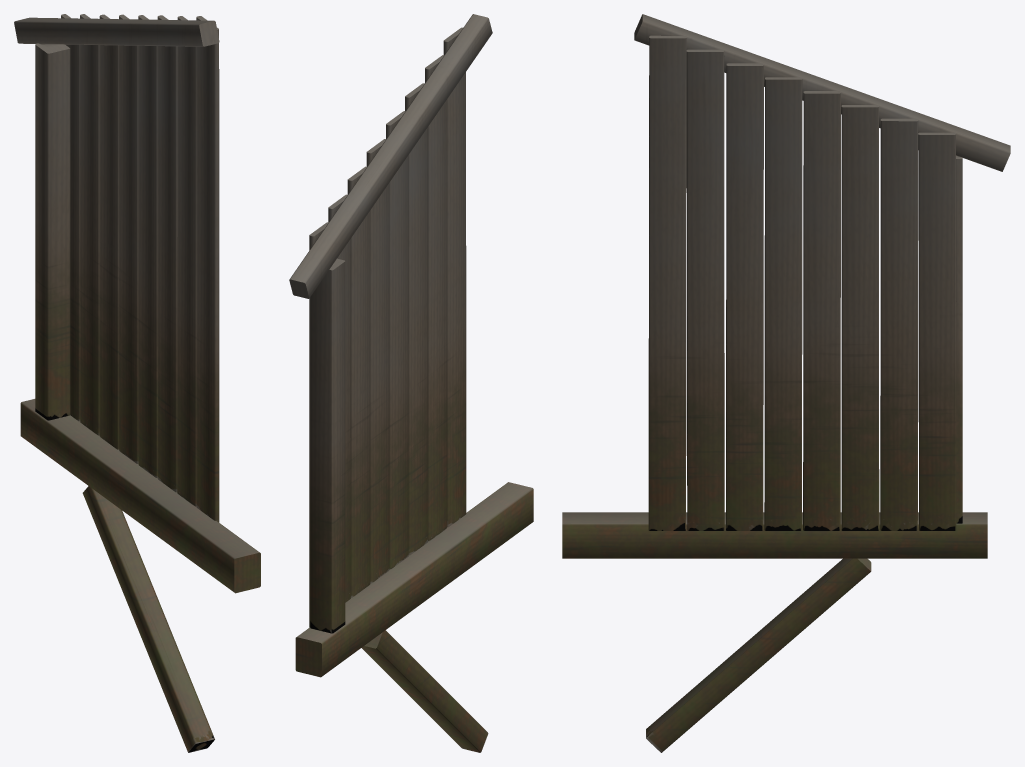
Rendered from SM_Camp_HoardingEnd.fbx.
3 views of the same model, side by side, from view 1: azimuth 30°, elevation 25°; view 2: azimuth 150°, elevation 25°; view 3: azimuth 270°, elevation 25° (orthographic).
Visible parts, largest first — view 1: SM_Camp_HoardingEnd; view 2: SM_Camp_HoardingEnd; view 3: SM_Camp_HoardingEnd.
Boxes of the visible parts, bbox=[...] form: SM_Camp_HoardingEnd: bbox=[14, 14, 260, 752]; SM_Camp_HoardingEnd: bbox=[289, 14, 533, 752]; SM_Camp_HoardingEnd: bbox=[562, 14, 1010, 752].
Bounding box in the file's own units: 17.5 × 235 × 423.
